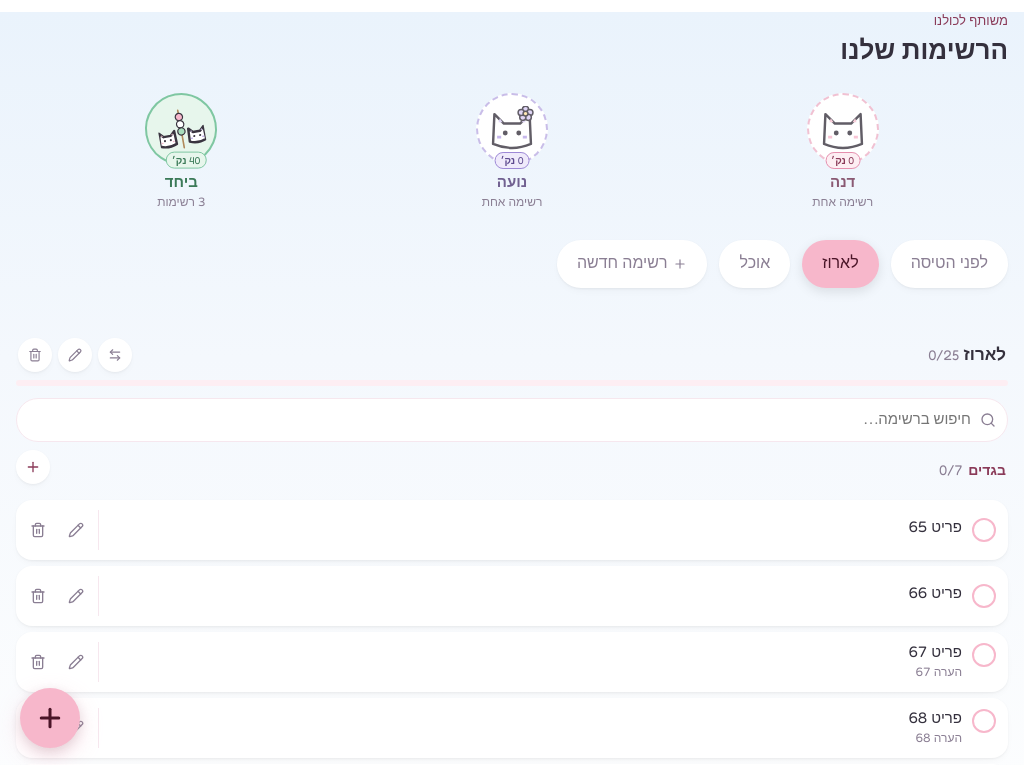
Test: reordering the lists › moves a list to another group when it is let go over that group’s stamp
The width and height of the screenshot is (1024, 765).
Later steps or results of the test are not shown.
Press the mouse on the link "אוכל": (755, 264) [720,240,790,288]
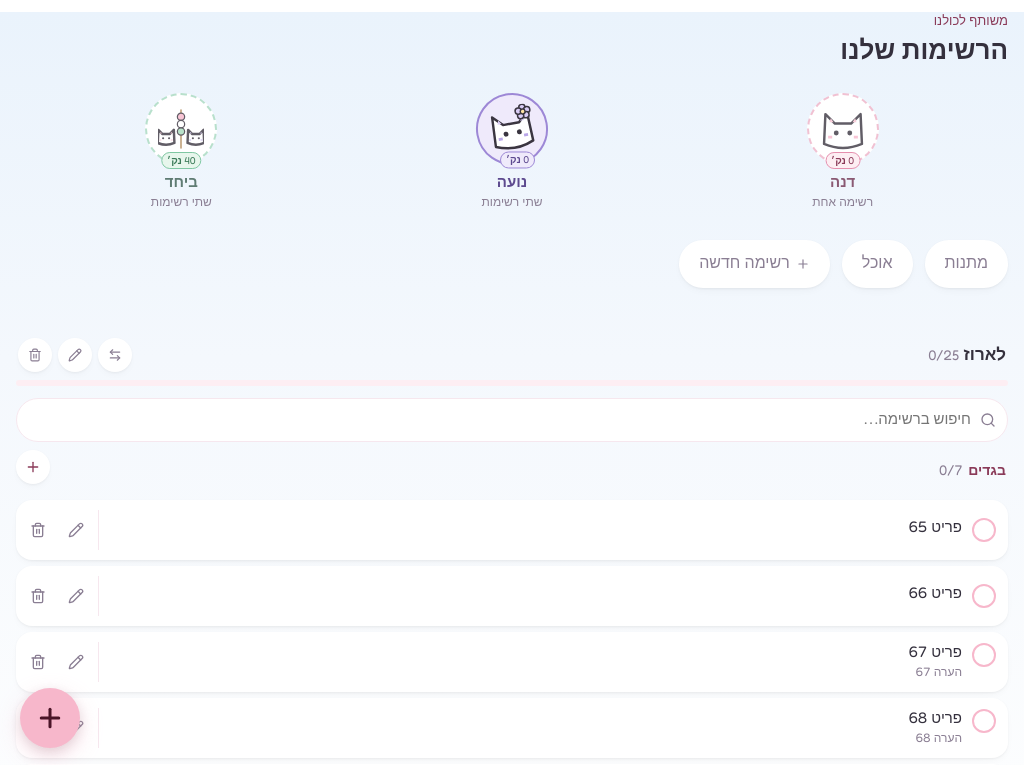
expect the button "0 נק׳ נועה שתי רשימות" is pressed: met, box [472,88,552,216]
